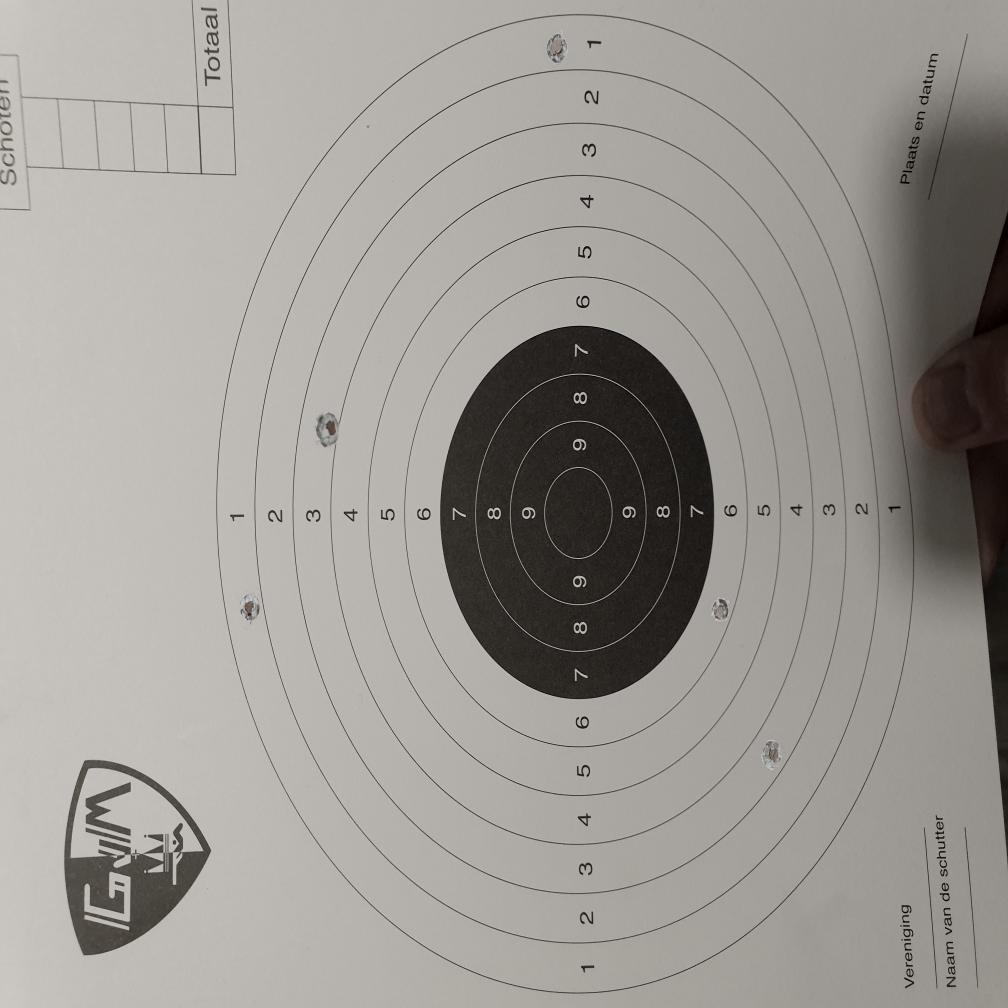1: (546, 28, 568, 66), (239, 590, 261, 626)
3: (760, 738, 783, 771)
4: (314, 411, 341, 449)
6: (711, 597, 731, 623)
Target: (215, 12, 912, 995)
black_contour: (441, 324, 713, 699)
